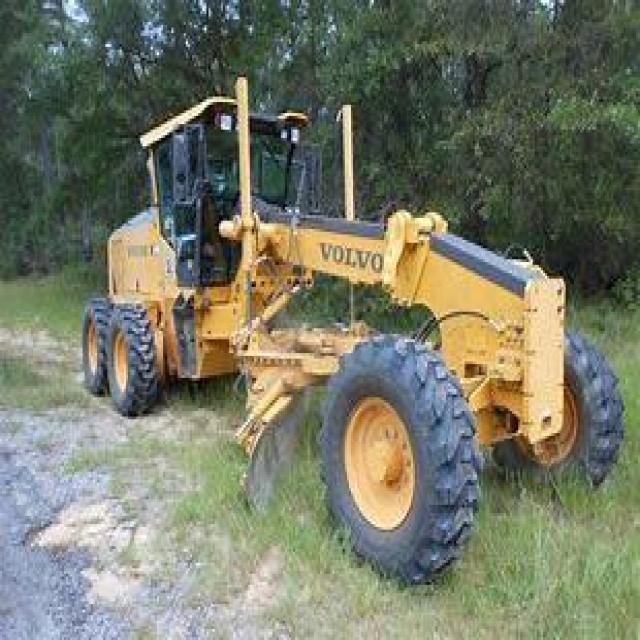Grader: (68, 80, 628, 585)
